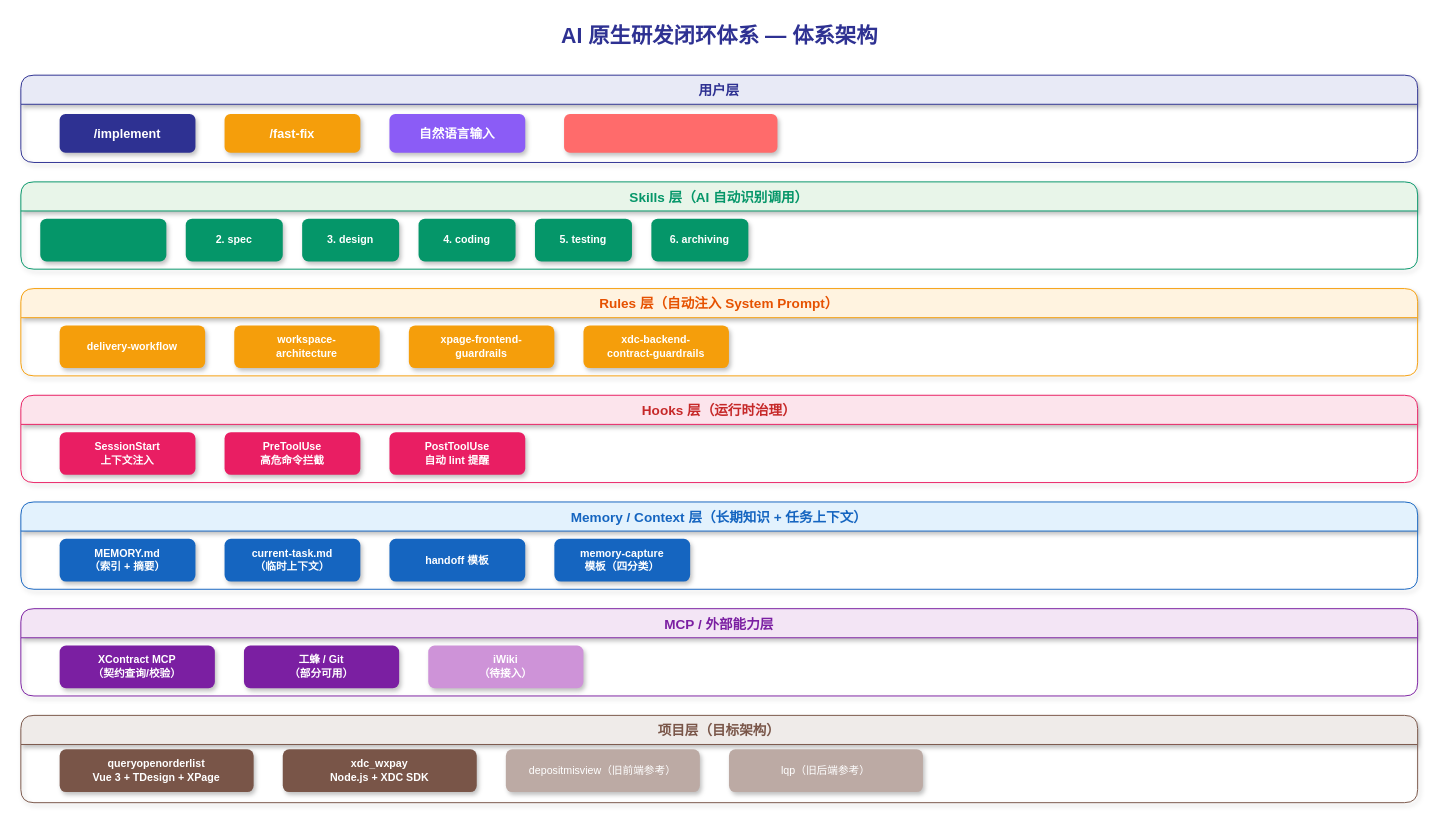
The diagram is 1440 pixels wide and 826 high, and some of its shapes have lost their labels. Each missing label, with the centre of its shape:
"1. requirement- analysis" goes at (x=104, y=241).
"人工确认门禁（每阶段间）" goes at (x=671, y=134).
